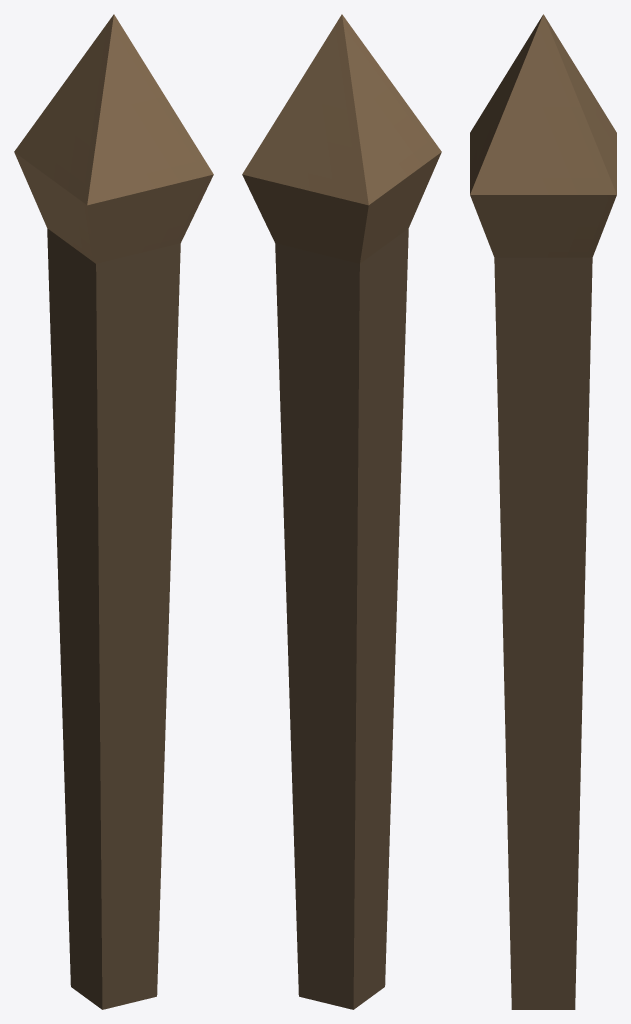
The model's file is Torch02.fbx.
The picture shows the model from 3 angles, left to right: view 1: azimuth 30°, elevation 25°; view 2: azimuth 150°, elevation 25°; view 3: azimuth 270°, elevation 25°; orthographic projection.
Parts seen in each view (by area): view 1: Torch02; view 2: Torch02; view 3: Torch02.
Boxes of the visible parts, x1,y1,x2,y2 form: Torch02: (14, 14, 213, 1009); Torch02: (242, 14, 441, 1009); Torch02: (470, 14, 616, 1009).
Size of the model in its own units: 18.18 by 134 by 18.18.
